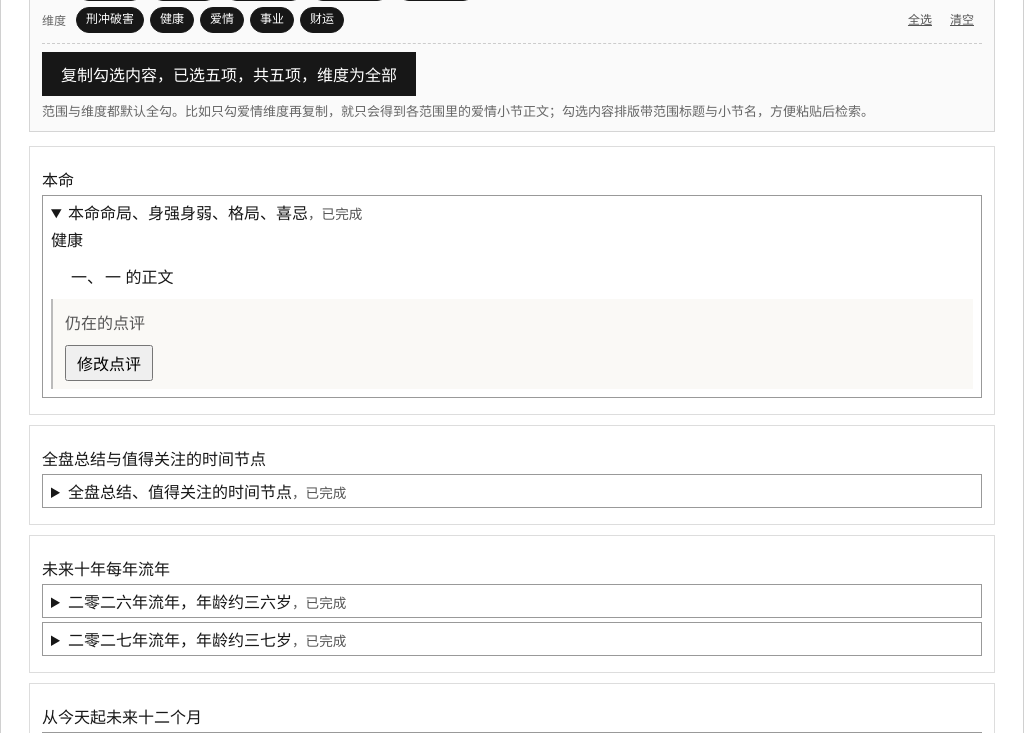
it: 详情页逐条「点评」留言 › 存储拒绝保存或删除时显示错误且保留原点评
(page scrolled)
Click the button "修改点评" at (109, 363), box [65,345,153,381]
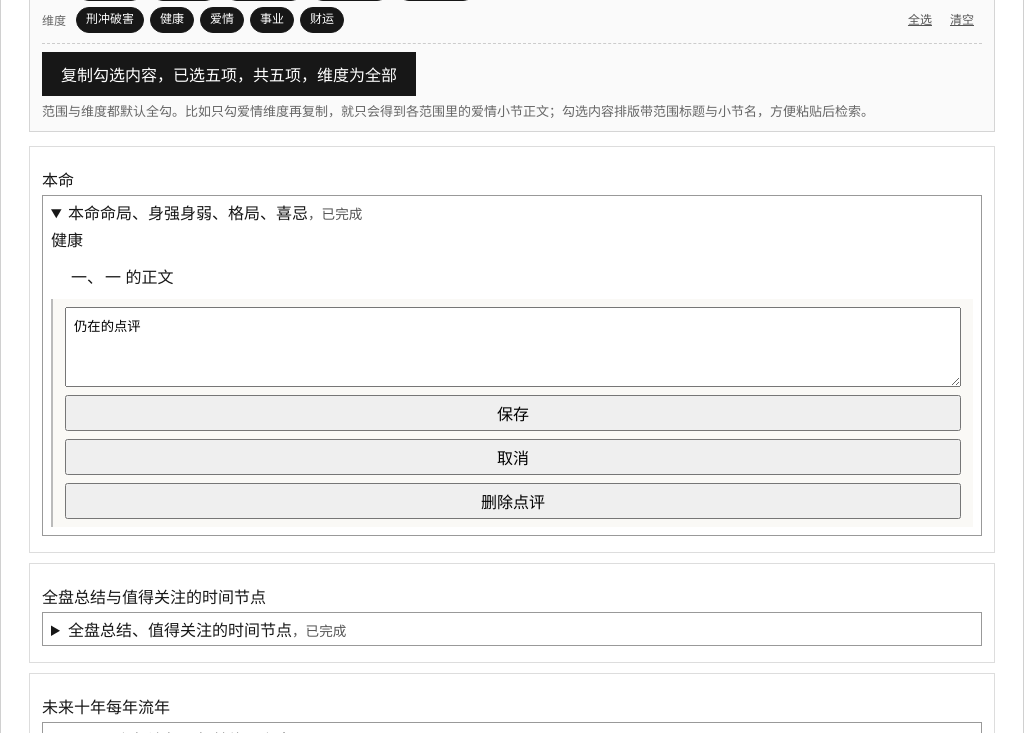
Replace the text in the text box with "无法保存的新稿" at (513, 347), box [65,307,961,387]
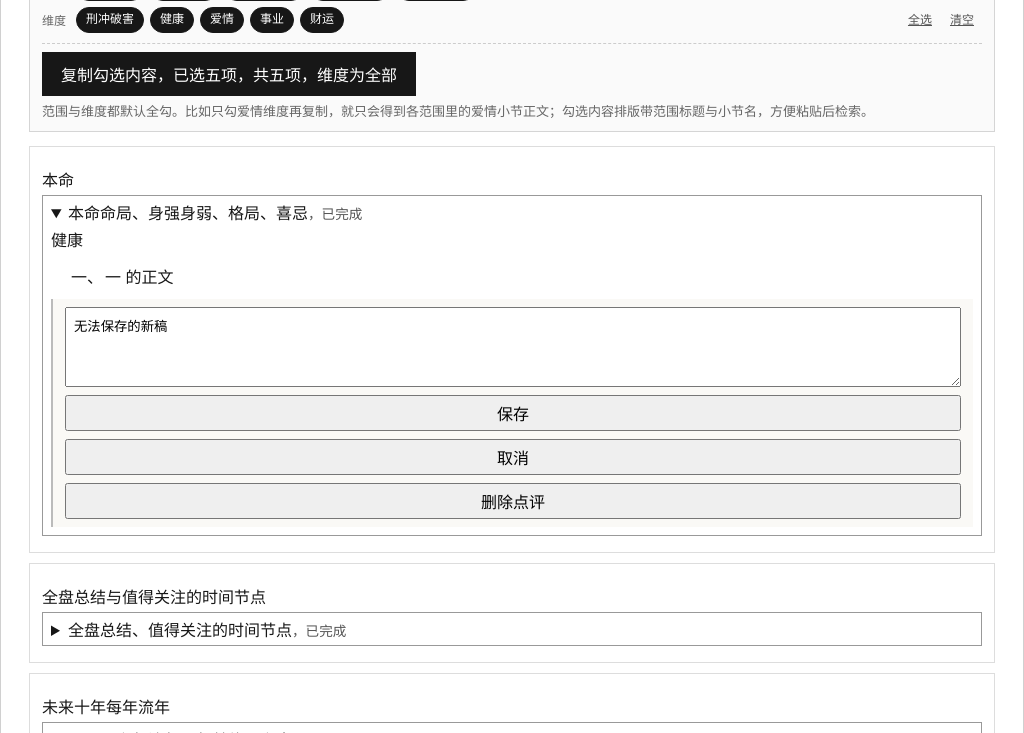
Click the button "保存" at (513, 413), box [65,395,961,431]
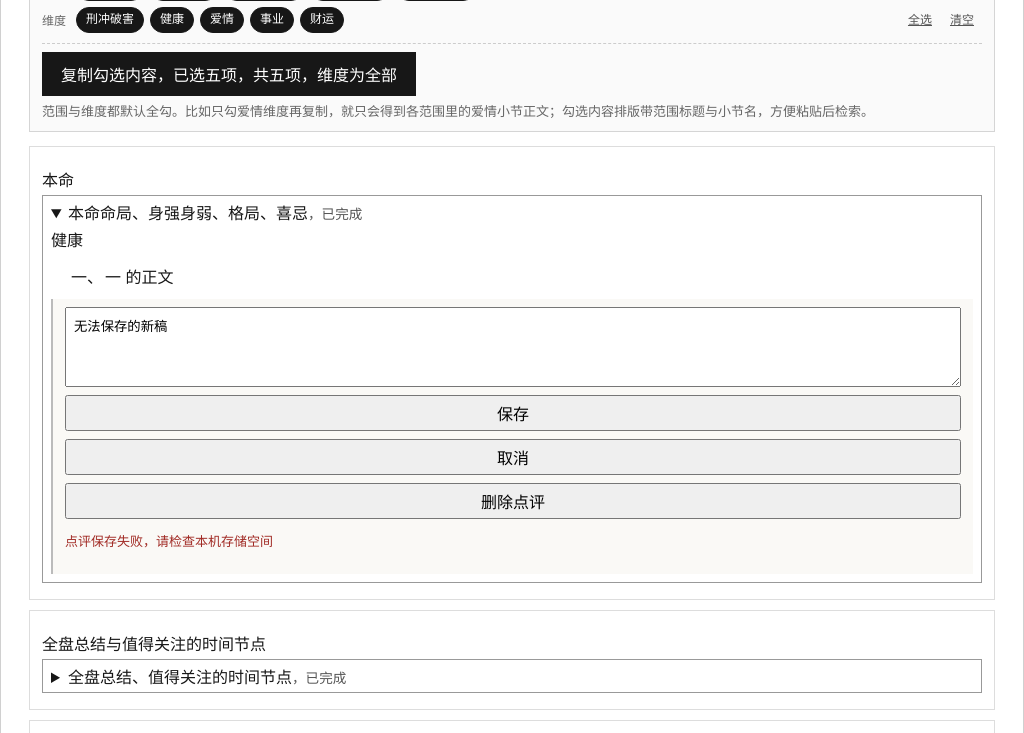
Expected: the message shows "点评保存失败", [65,534,273,549]
Click the button "删除点评" at (513, 501), box [65,483,961,519]
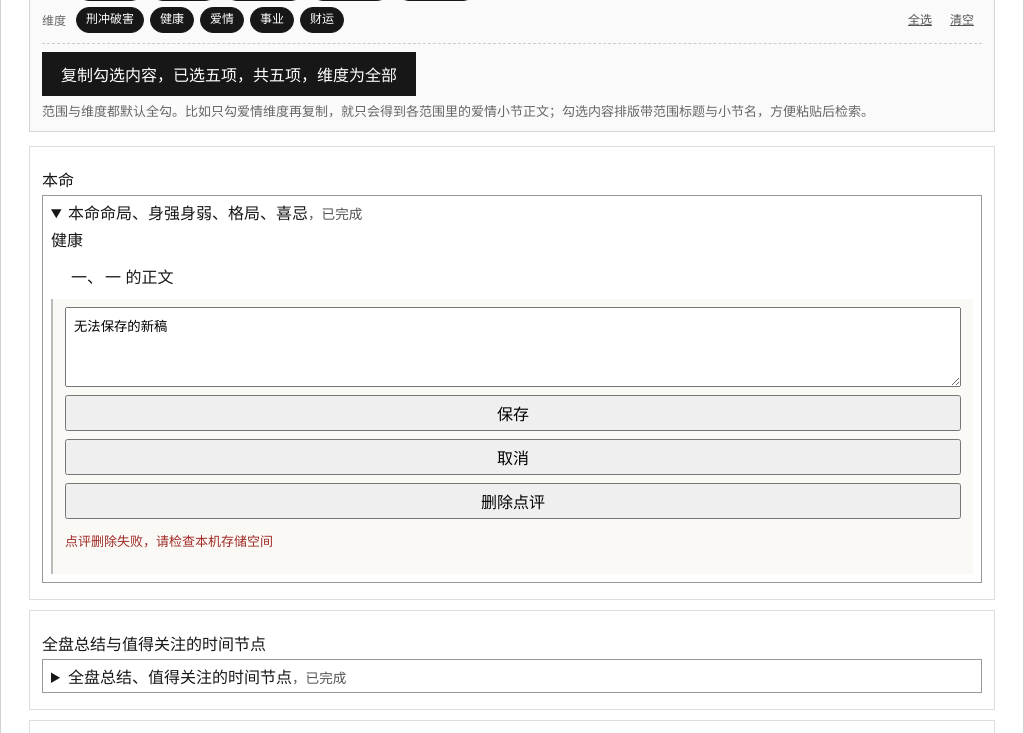
Expected: the message shows "点评删除失败", [65,534,273,549]
